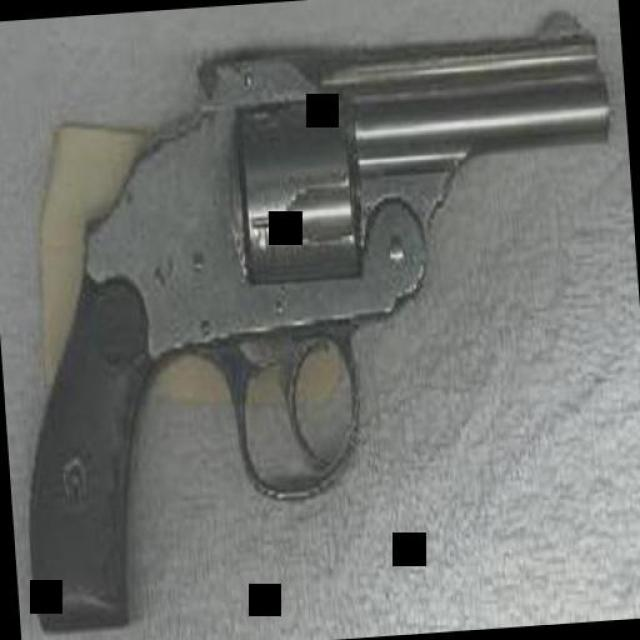gun: (0, 6, 636, 635)
